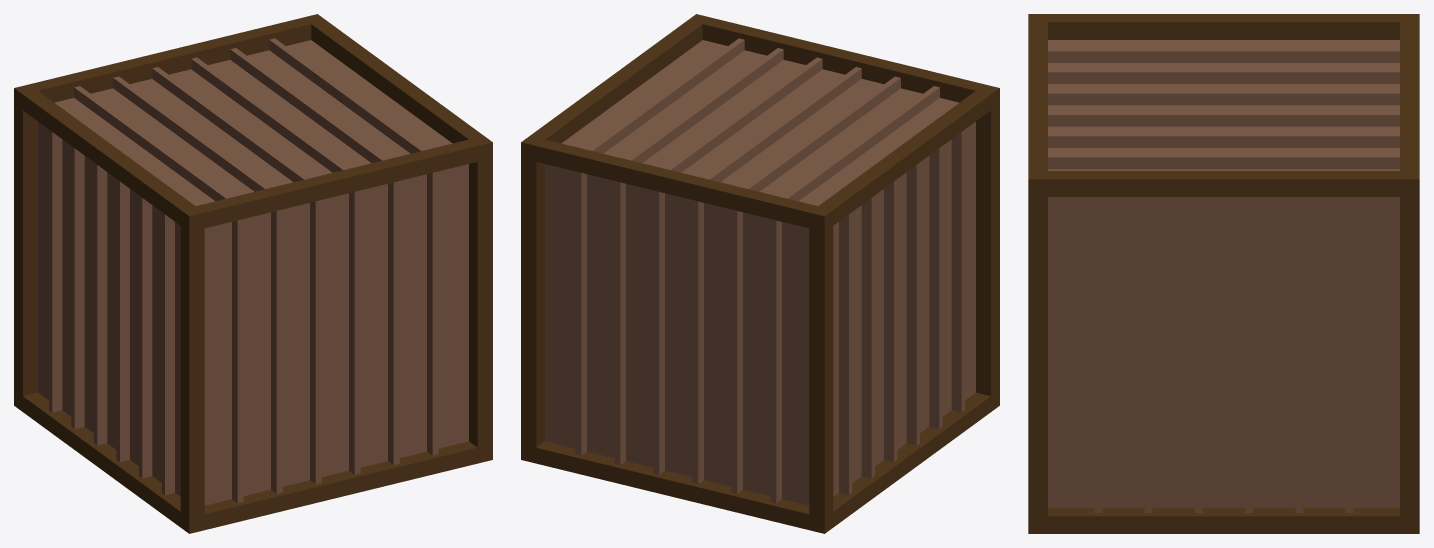
3 renders of one model, left to right at view 1: azimuth 30°, elevation 25°; view 2: azimuth 150°, elevation 25°; view 3: azimuth 270°, elevation 25°, orthographic. The views are drawn at different scales.
Visible parts, largest first — view 1: CubeIn1, CubeIn2, CubeOut; view 2: CubeIn1, CubeIn2, CubeOut; view 3: CubeIn1, CubeIn2, CubeOut.
Boxes of the visible parts, left/top/right/bottom form: CubeIn1: left=38, top=40, right=468, bottom=505; CubeIn2: left=49, top=38, right=438, bottom=503; CubeOut: left=14, top=14, right=492, bottom=533; CubeIn1: left=545, top=40, right=975, bottom=505; CubeIn2: left=575, top=38, right=964, bottom=503; CubeOut: left=521, top=14, right=999, bottom=533; CubeIn1: left=1048, top=40, right=1399, bottom=507; CubeIn2: left=1048, top=48, right=1399, bottom=513; CubeOut: left=1028, top=14, right=1419, bottom=533.
Bounding box in the file's own units: 200 × 200 × 200.
